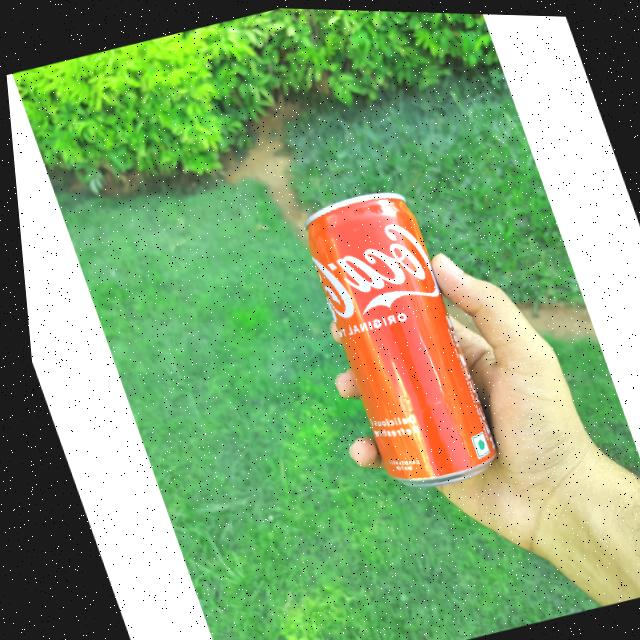Coca Cola: (279, 175, 510, 503)
